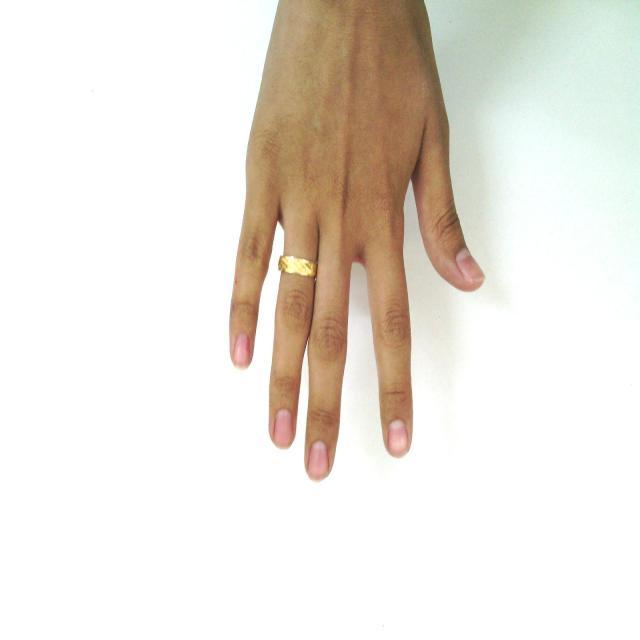Fingernail: (457, 250, 484, 282), (308, 442, 328, 481), (388, 420, 407, 455), (274, 411, 292, 447), (234, 336, 249, 368)
